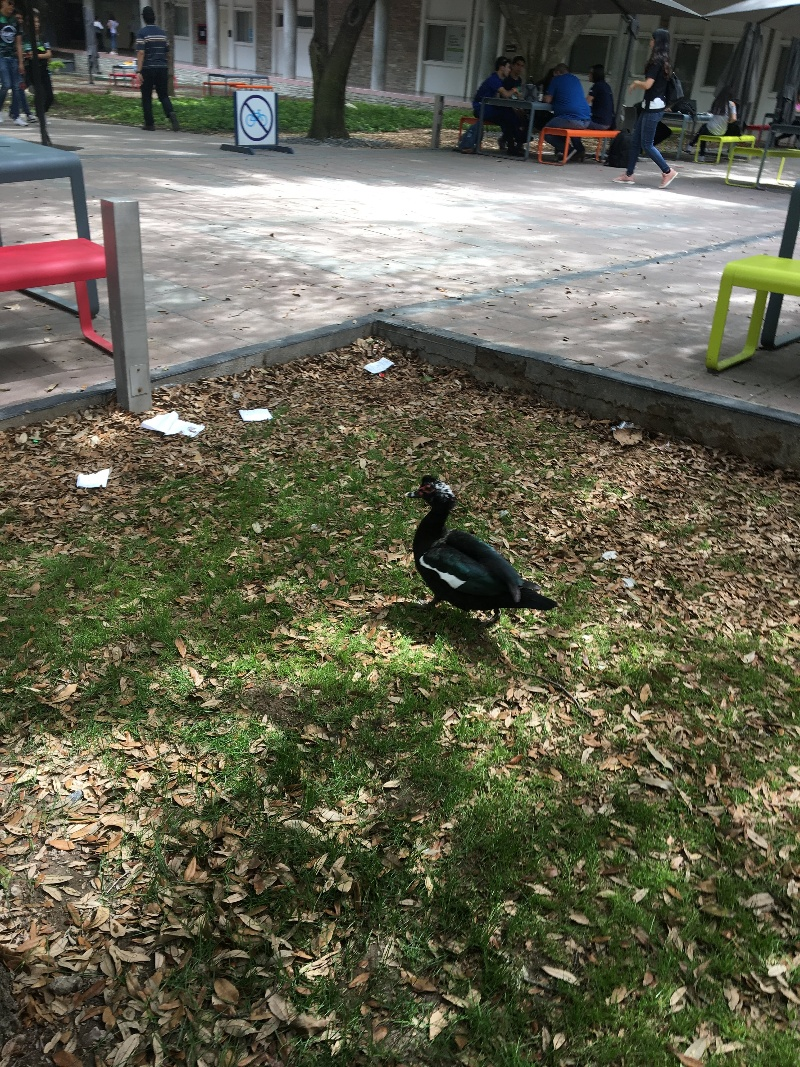pato: (401, 475, 532, 620)
